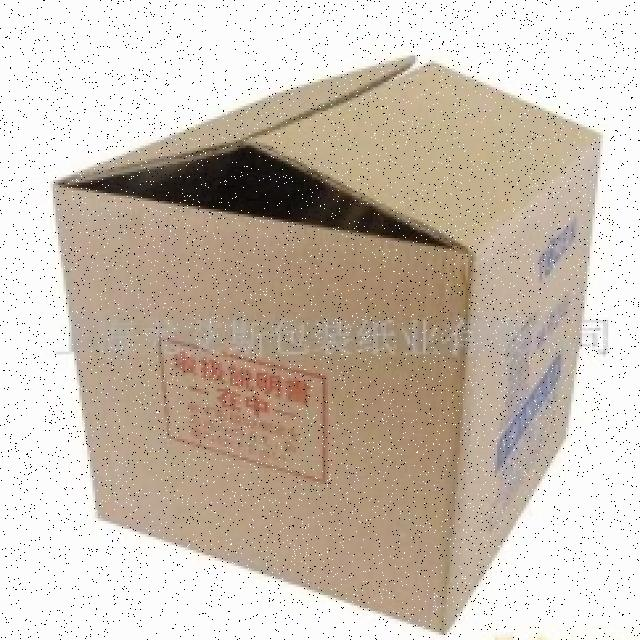box: (62, 63, 609, 628)
